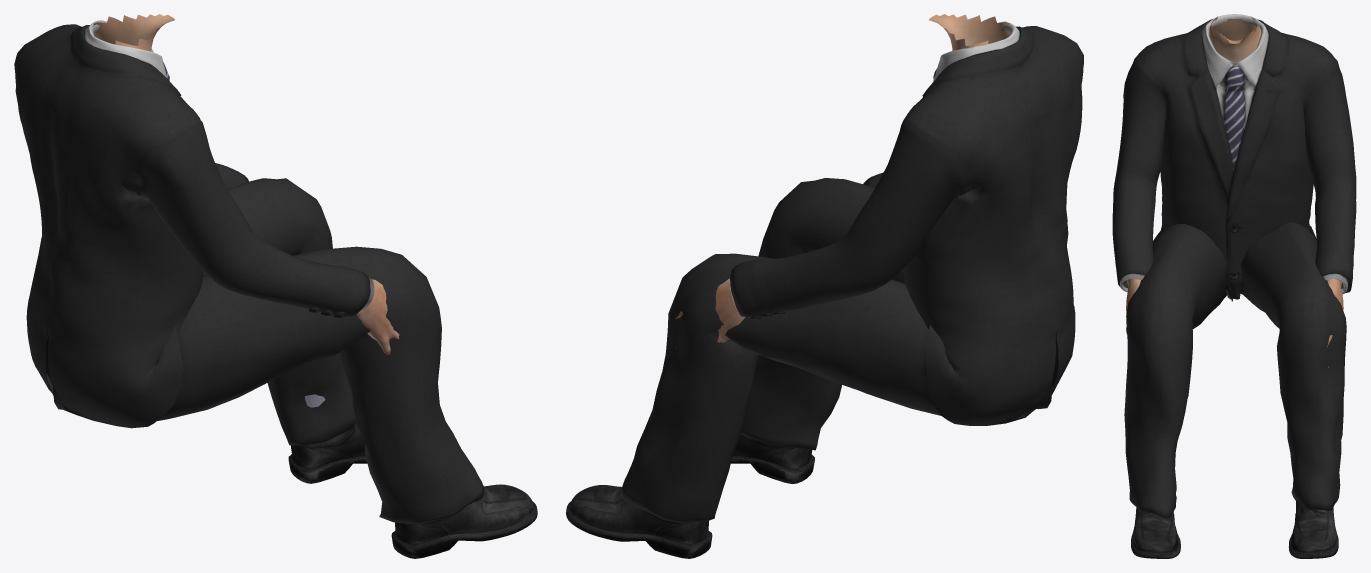
The model's file is SM_OfficeWorker_Body.fbx.
The picture shows the model from 3 angles, left to right: view 1: azimuth 30°, elevation 25°; view 2: azimuth 150°, elevation 25°; view 3: azimuth 270°, elevation 25°; orthographic projection. The views are drawn at different scales.
Visible parts, largest first — view 1: SM_OfficeWorker_Body; view 2: SM_OfficeWorker_Body; view 3: SM_OfficeWorker_Body.
Boxes of the visible parts, x1,y1,x2,y2 form: SM_OfficeWorker_Body: [14, 14, 537, 558]; SM_OfficeWorker_Body: [566, 14, 1083, 558]; SM_OfficeWorker_Body: [1112, 14, 1356, 558].
Size of the model in its own units: 91.22 by 109 by 58.21.
